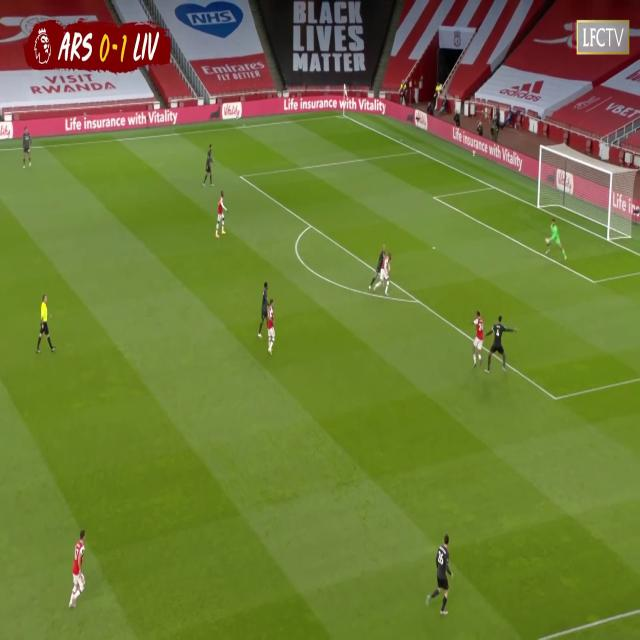ball: (545, 237, 550, 245)
team1: (423, 532, 452, 617), (480, 313, 516, 374), (370, 238, 386, 288), (257, 280, 268, 344), (203, 145, 216, 187), (22, 129, 32, 166)
team2: (71, 523, 88, 609), (472, 310, 486, 370), (216, 191, 229, 240), (382, 243, 393, 295), (266, 299, 277, 351)
